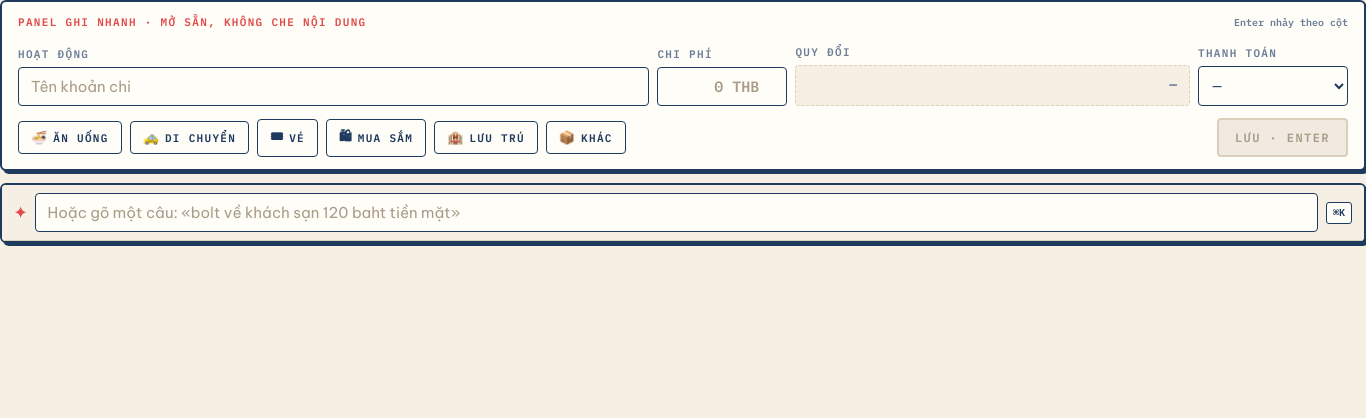
it: panel laptop · đúng bản vẽ L2 (v10.8) › bản xem trước ở panel là BỐN Ô NGANG, ô danh mục đoán được thì nổi bật
The image size is (1366, 418).
Type "bolt về khách sạn 120 baht tiền mặt" into the field with placeholder "Hoặc gõ một câu: «bolt về khách sạn 120 baht tiền mặt»" at (676, 213), box [35,193,1318,232]
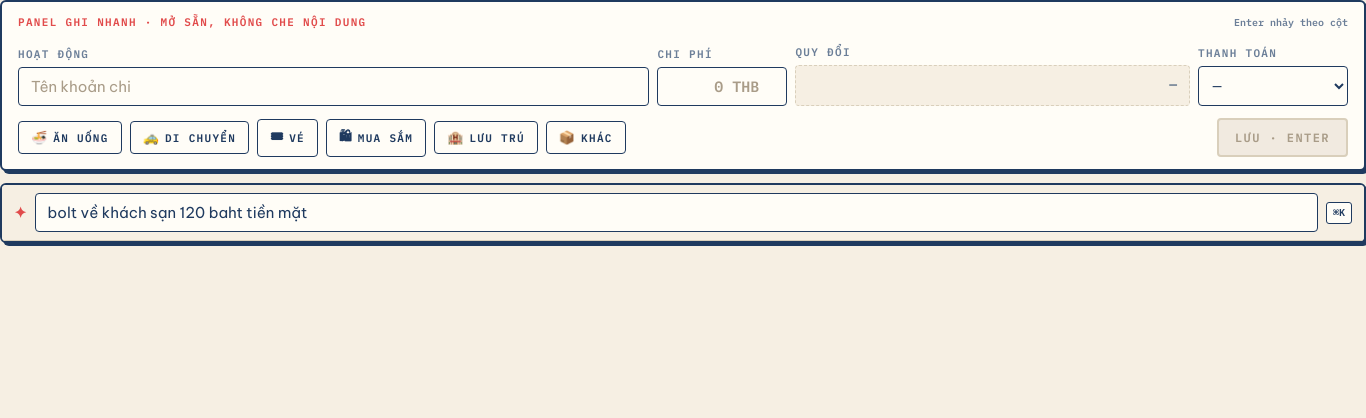
Press Enter in the 2nd field, box [35,193,1318,232]
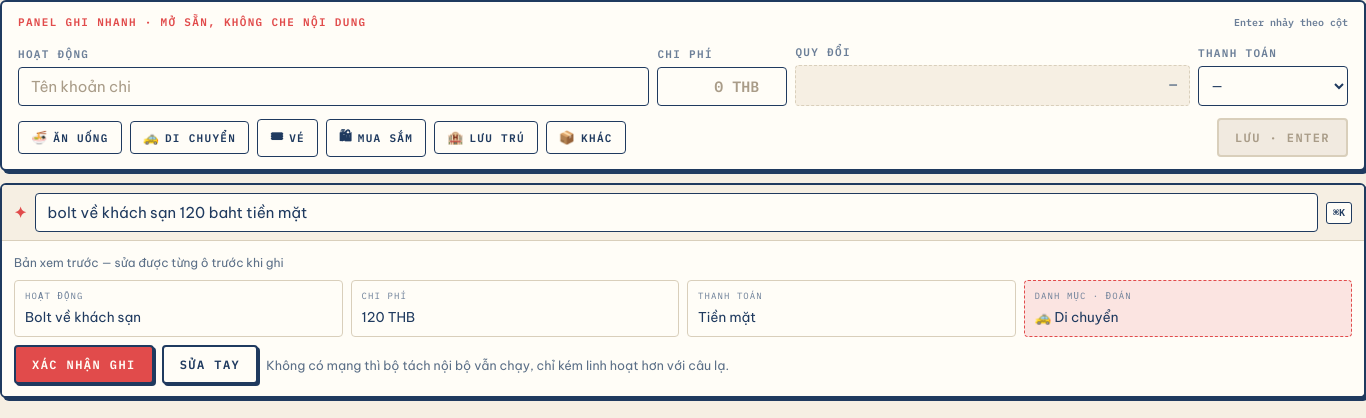
Check: the number of elements with class "ai__o" is 4, box [14,280,342,337]; [350,280,679,337]; [687,280,1016,337]; [1024,280,1352,337]
Check: the element with class "ai__o--doan" shows "Di chuyển", box [1034,308,1119,326]
